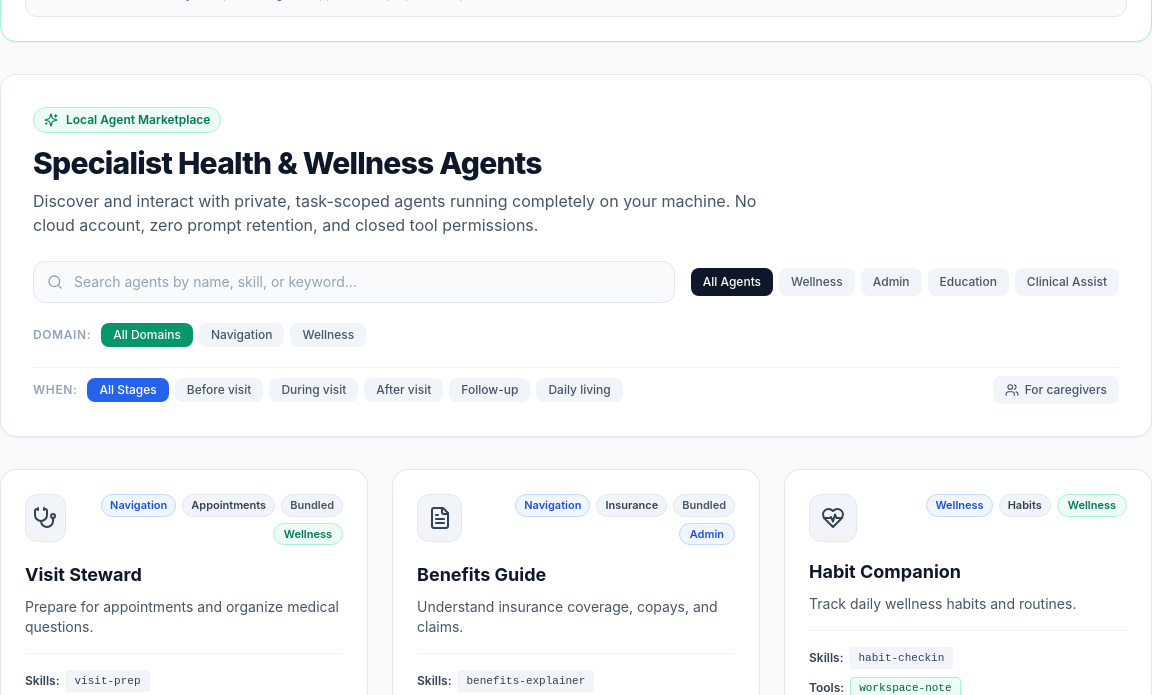
Test: Marketplace Home Screen › renders domain filter tabs and filters agents by domain
(page scrolled)
// Filter by wellness
Step 1. Click the button "Wellness" in the row of "Domain:" → (328, 335), box [290,323,366,347]
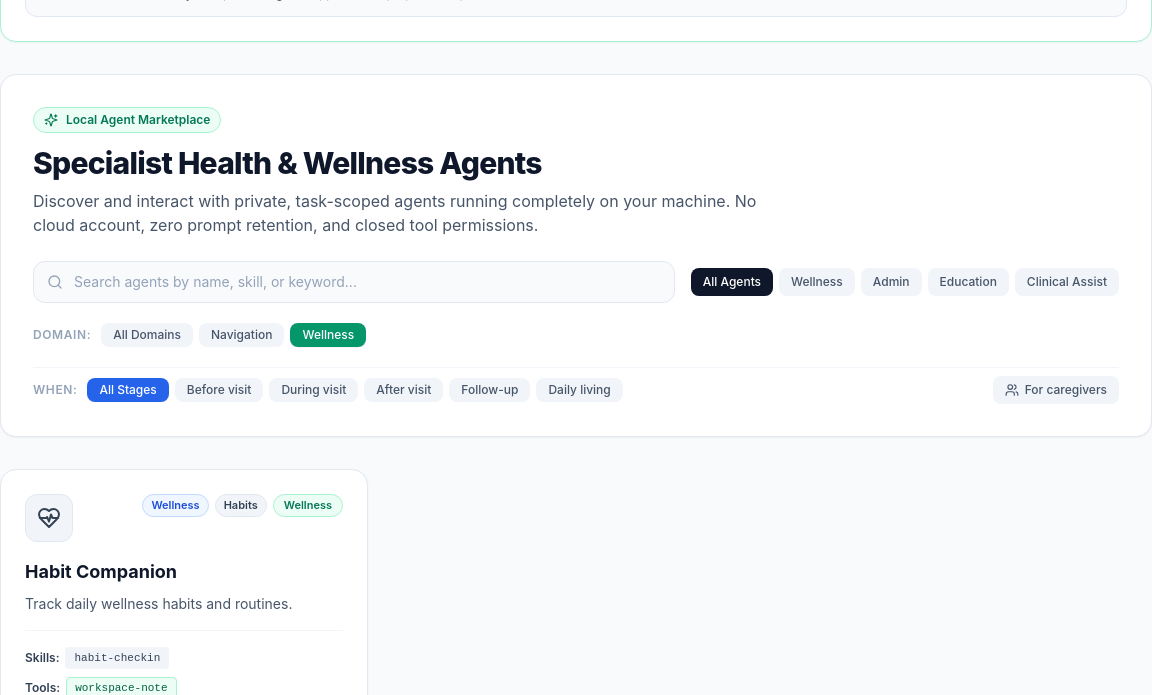
Expected: the link "Habit Companion" is shown, [25,561,177,582]
Expected: the link "Benefits Guide" is gone
// Filter by navigation
Step 2. Click the button "Navigation" → (242, 335), box [199,323,284,347]
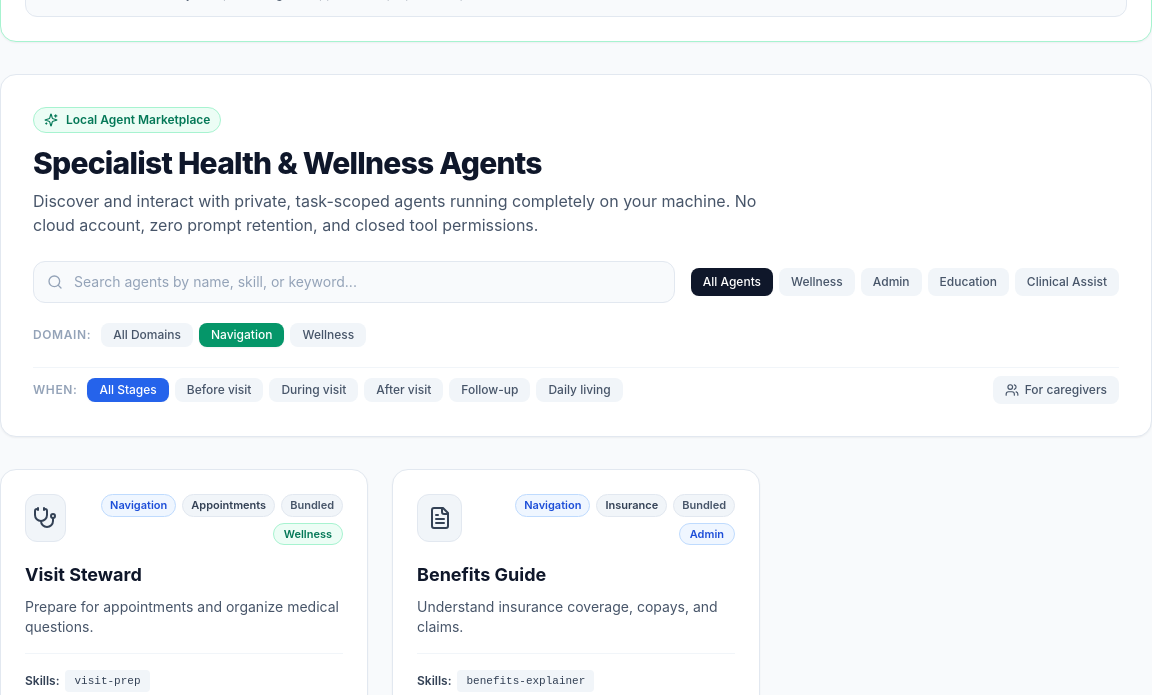
Expected: the link "Visit Steward" is shown, [25,564,142,585]
Expected: the link "Benefits Guide" is shown, [417,564,546,585]
Expected: the link "Habit Companion" is gone
// Reset to all domains
Step 3. Click the button "All Domains" → (147, 335), box [101,323,193,347]
(page scrolled)
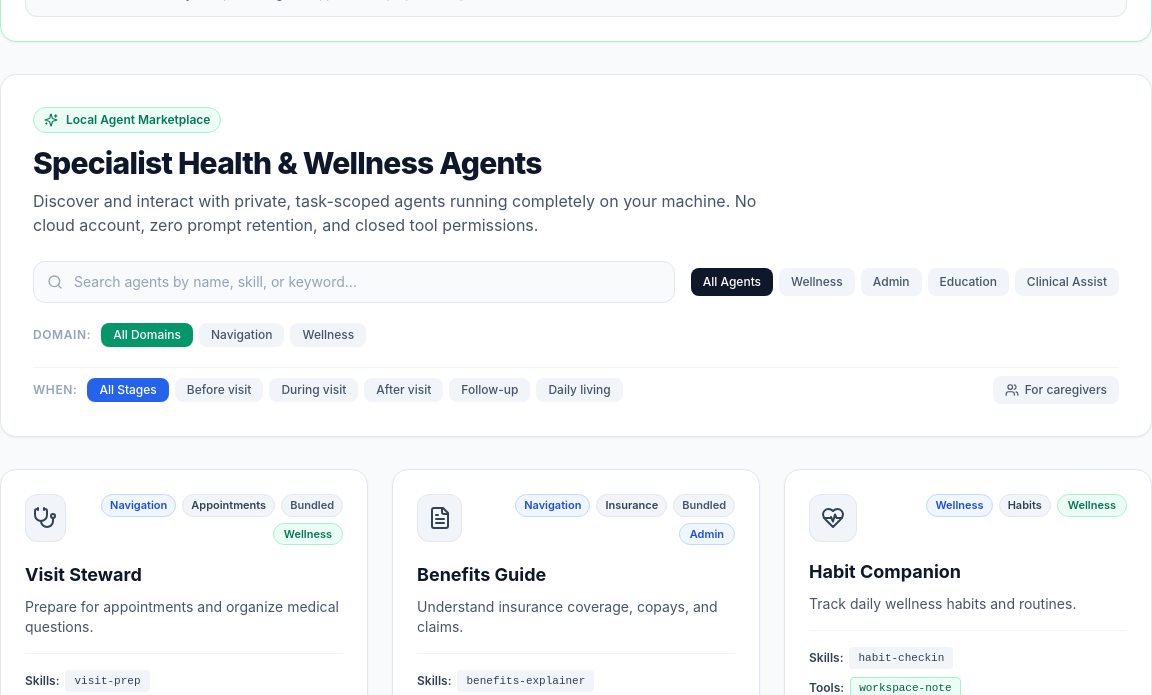
Expected: the link "Visit Steward" is shown, [25,564,142,585]
Expected: the link "Benefits Guide" is shown, [417,564,546,585]
Expected: the link "Habit Companion" is shown, [809,561,961,582]
